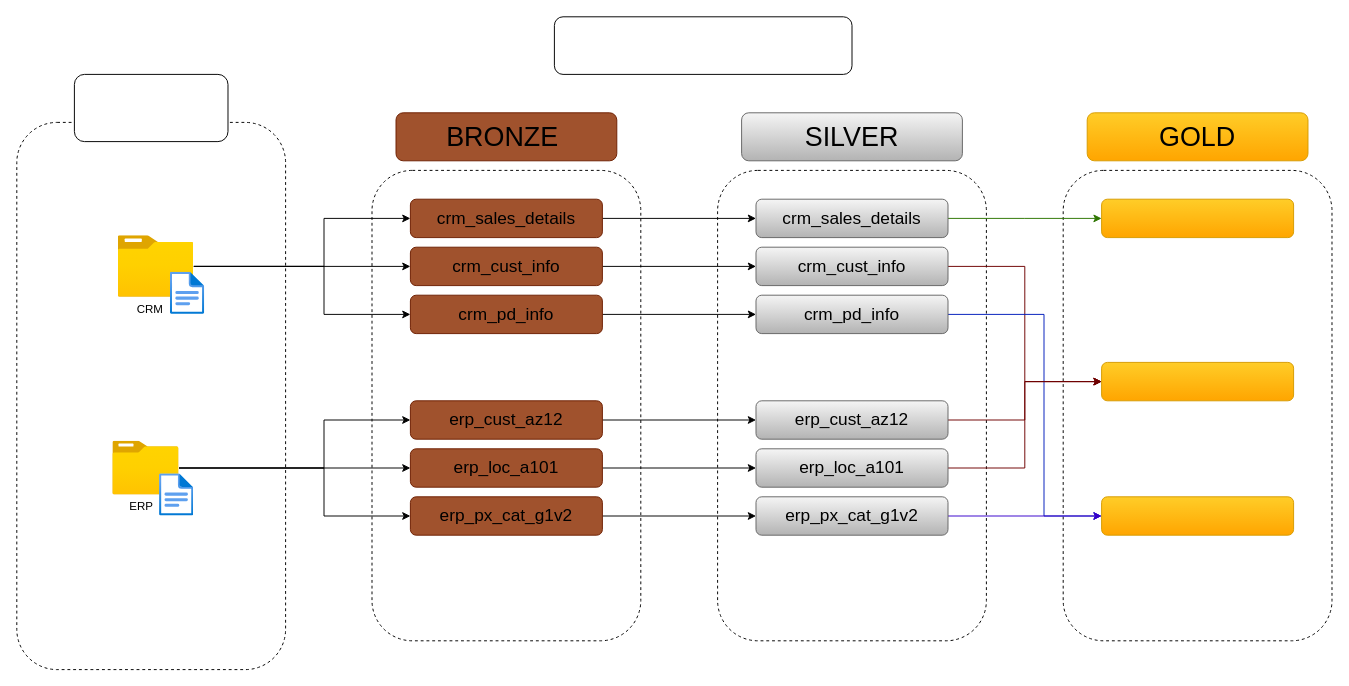
This 1349x686 diagram has some shape labels left out. The centre of each missing label's shape, as x and y in pixels:
DATA FLOW: the point at 702,45
dim_customers: the point at 1197,381
dim_products: the point at 1197,515
fact_sales: the point at 1197,218
SOURCES: the point at 150,107
